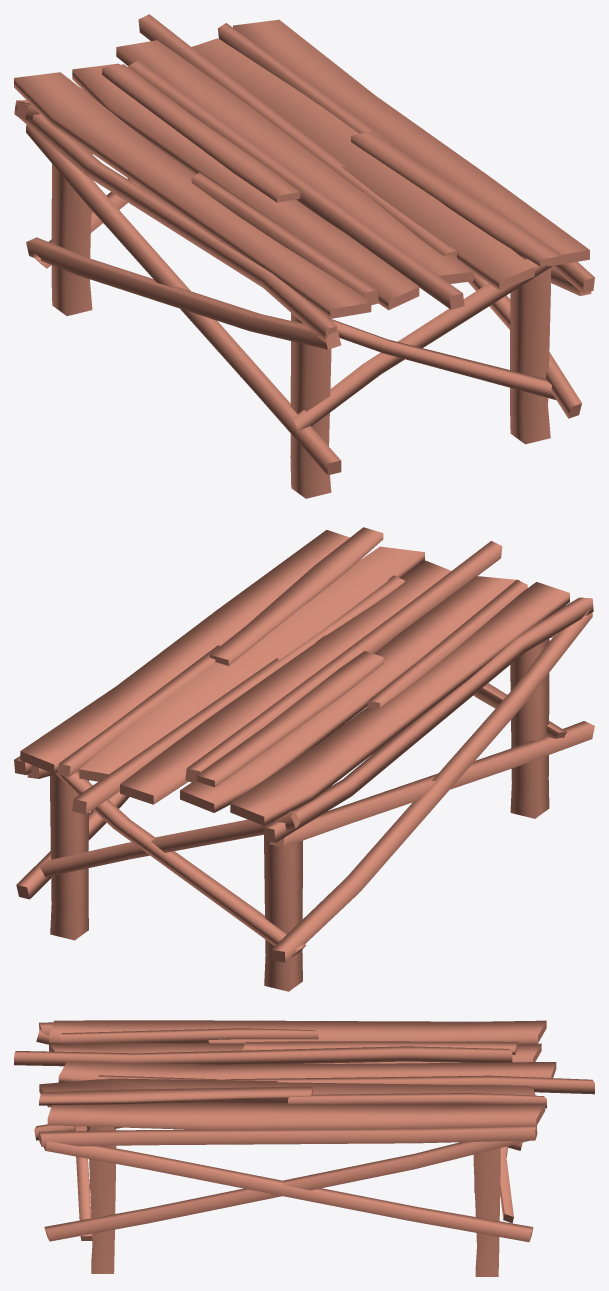
The model's file is stage.fbx.
3 views of the same model, one above another, from view 1: azimuth 30°, elevation 25°; view 2: azimuth 150°, elevation 25°; view 3: azimuth 270°, elevation 25° (orthographic). The views are drawn at different scales.
Visible parts, largest first — view 1: Plane.043; view 2: Plane.043; view 3: Plane.043.
Boxes of the visible parts, x1,y1,x2,y2 form: Plane.043: (14,14,594,498); Plane.043: (14,527,594,991); Plane.043: (14,1020,594,1276).
Size of the model in its own units: 1.86 by 1.35 by 4.24.
